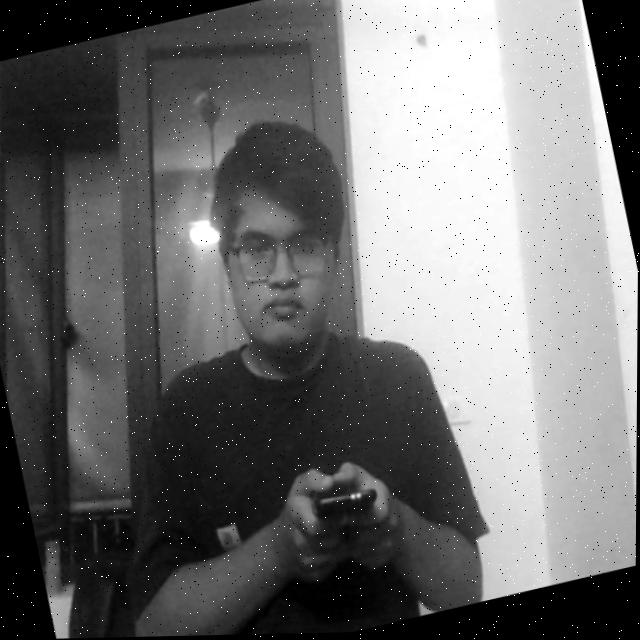phone: (291, 472, 389, 547)
